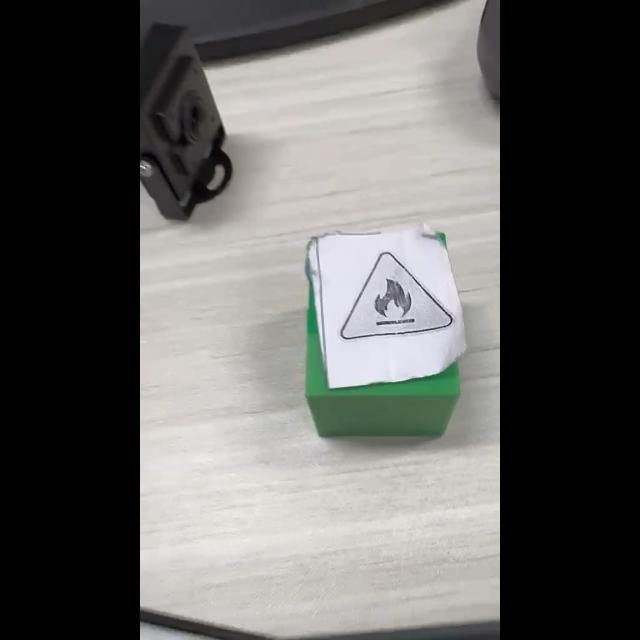Fire: (341, 251, 454, 341)
